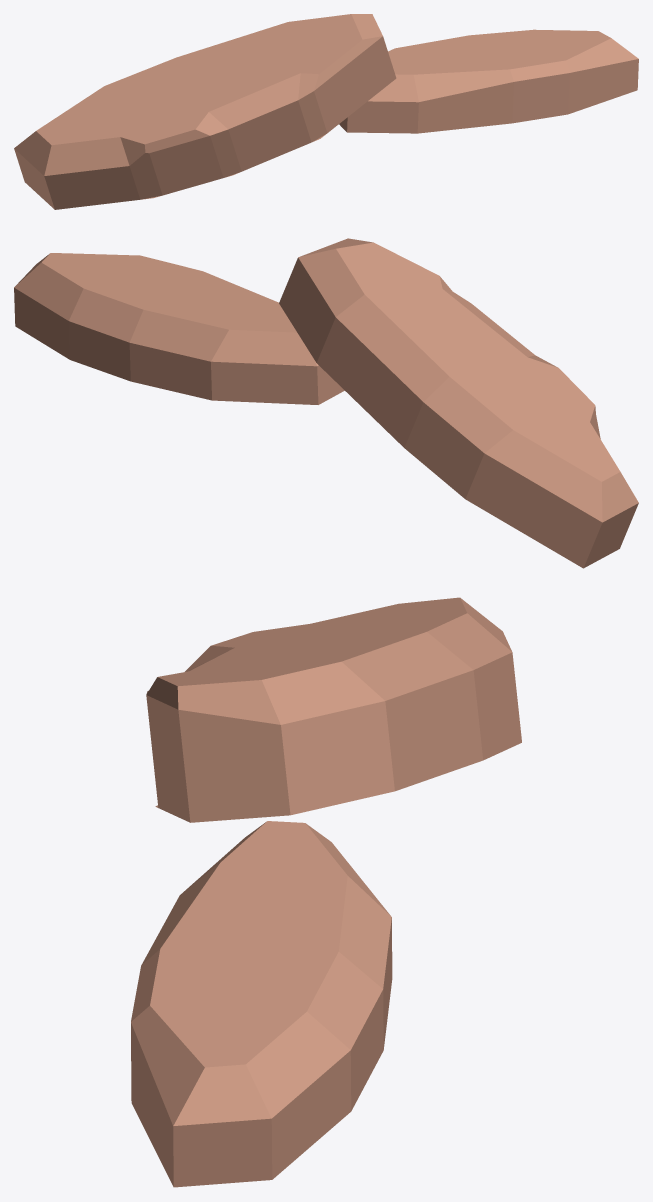
File: FishC.fbx
3 renders of one model, top to bottom at view 1: azimuth 30°, elevation 25°; view 2: azimuth 150°, elevation 25°; view 3: azimuth 270°, elevation 25°, orthographic. The views are drawn at different scales.
Visible parts, largest first — view 1: Fried fish.001; view 2: Fried fish.001; view 3: Fried fish.001.
Boxes of the visible parts, <box> form: Fried fish.001: <box>14,14,638,209</box>; Fried fish.001: <box>14,238,638,568</box>; Fried fish.001: <box>131,597,521,1187</box>.
Size of the model in its own units: 0.1344 by 0.0368 by 0.042.
